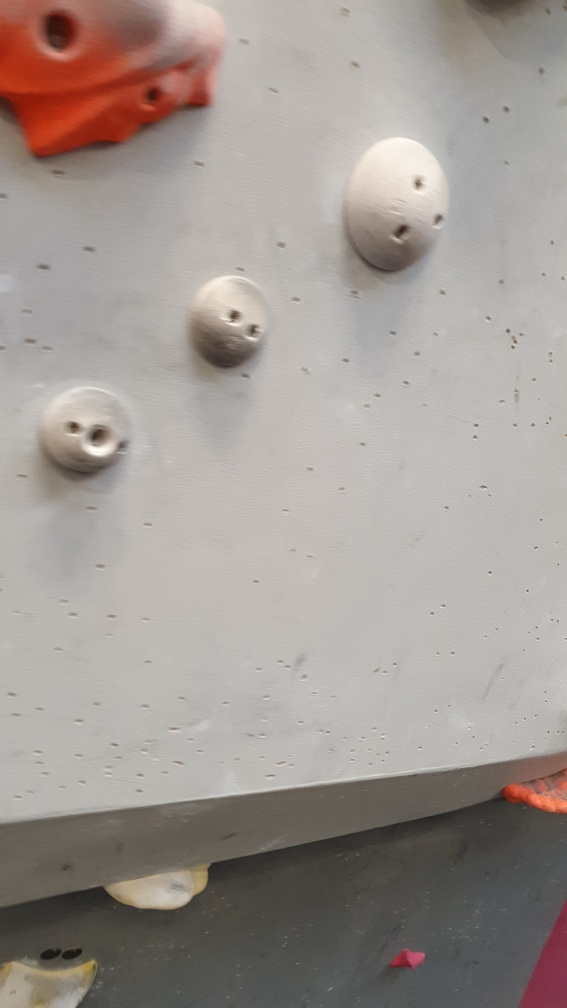Hand Start: (60, 942, 89, 966), (35, 943, 62, 965)
Jug: (1, 1, 231, 166), (499, 755, 567, 824)
Sloper: (338, 134, 455, 275), (34, 385, 139, 480), (187, 271, 272, 373)
